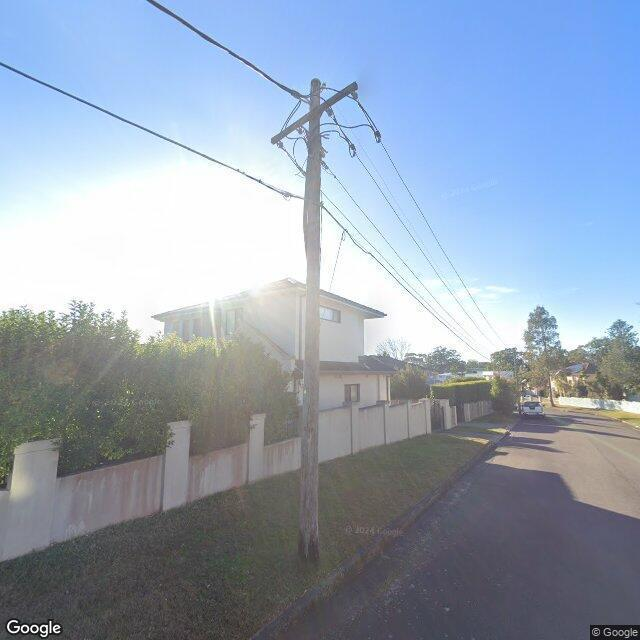crossarm: (271, 80, 358, 146)
timber-pole: (296, 79, 323, 562), (511, 348, 521, 414)
